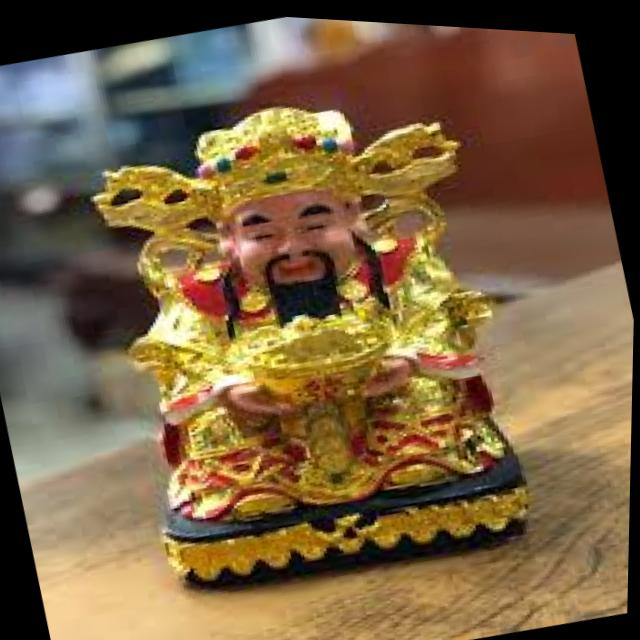Cai shen: (79, 58, 531, 550)
